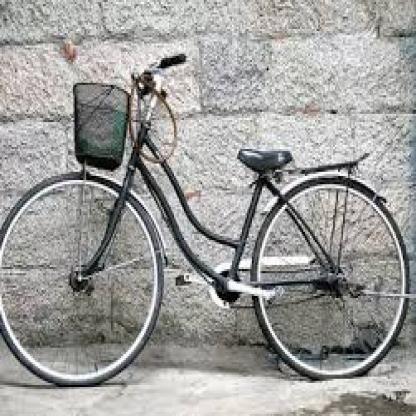Bike: (0, 52, 416, 386)
